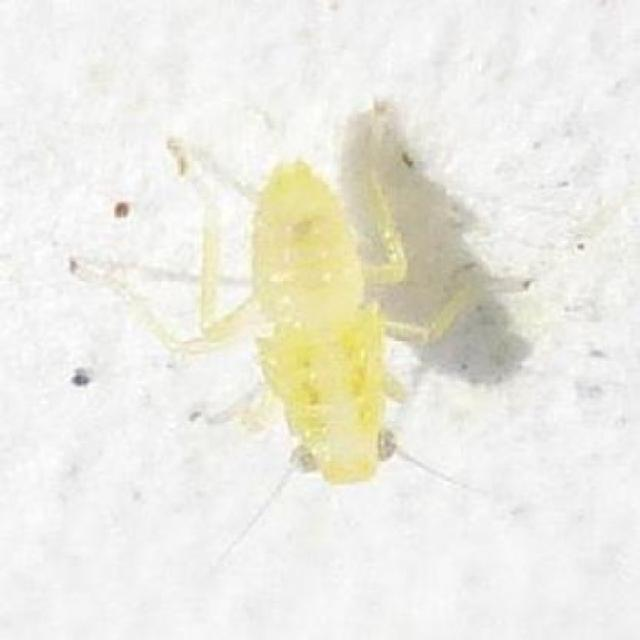green-leafhopper: (232, 148, 426, 490)
